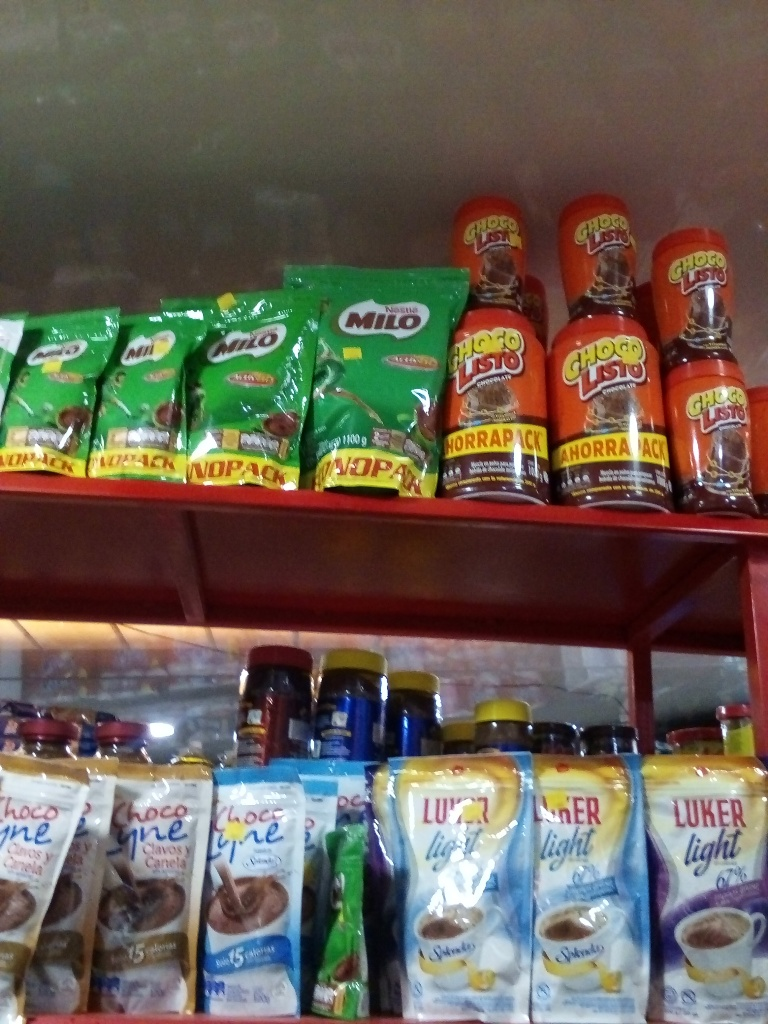COL0170103TRR00100: (448, 315, 552, 504)
